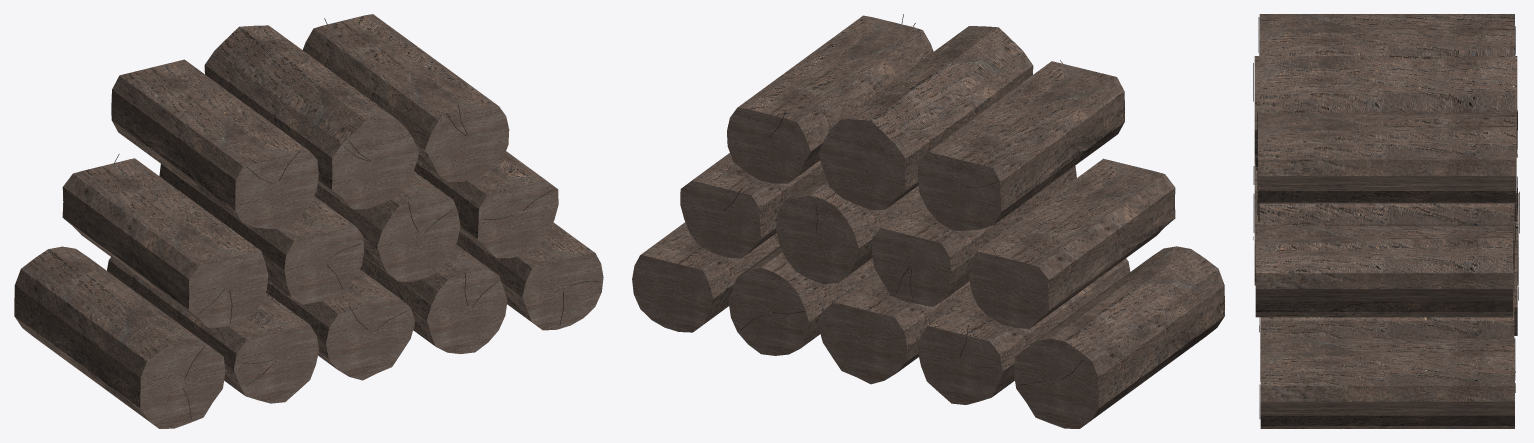
File: Woodpile.gltf
3 renders of one model, left to right at view 1: azimuth 30°, elevation 25°; view 2: azimuth 150°, elevation 25°; view 3: azimuth 270°, elevation 25°, orthographic. The views are drawn at different scales.
Parts seen in each view (by area): view 1: Woodpile; view 2: Woodpile; view 3: Woodpile.
Part boxes in pixels (x1,y1,x2,y2): Woodpile: [14, 14, 603, 428]; Woodpile: [632, 14, 1224, 428]; Woodpile: [1253, 14, 1519, 428].
Size of the model in its own units: 1.64 by 0.8878 by 0.7874.
3 materials, 3 textured.
